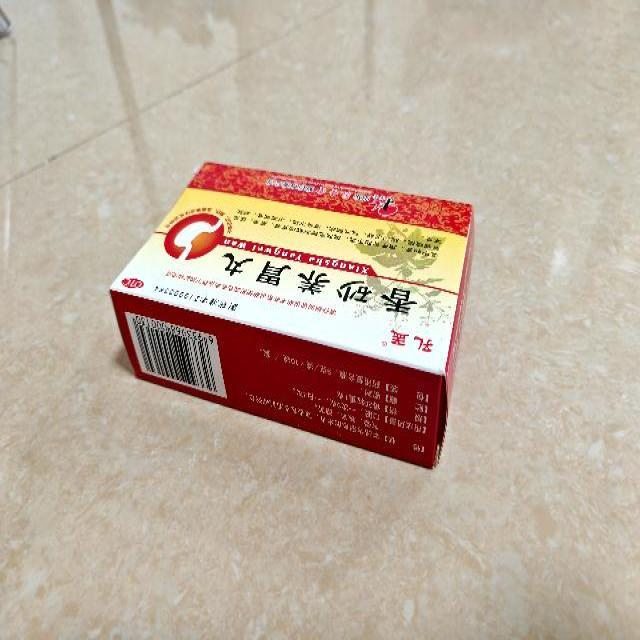box: (106, 160, 474, 470)
